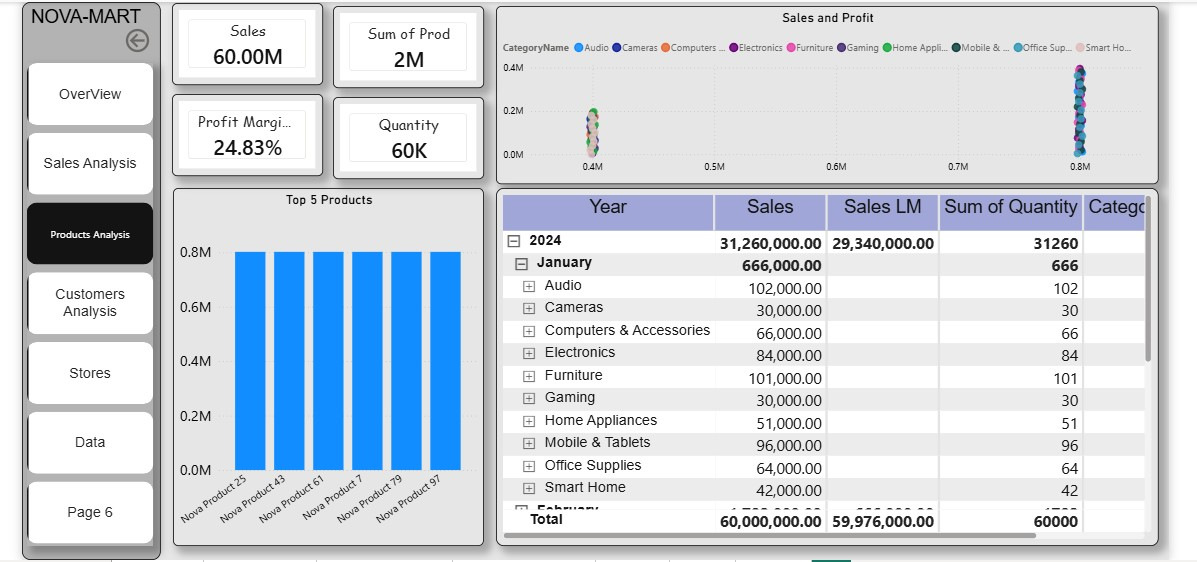

Layout of this report page (visuals, bound fields, positions):
{"tool":"powerbi","page":{"name":"Products Analysis","canvas":[1480,720],"ordinal":2},"visuals":[{"type":"shape","box":[0,0,179,720],"z":0},{"type":"pageNavigator","box":[6.7,79,163,623.3],"z":1000},{"type":"textbox","box":[6.7,0,169.7,70.6],"z":2000},{"type":"cardVisual","fields":{"Data":["_Measures.Sales"]},"box":[193.2,1.7,194.9,105.8],"z":3000},{"type":"cardVisual","fields":{"Data":["_Measures.Profit Margin %"]},"box":[193.2,119.3,194.9,105.8],"z":4000},{"type":"cardVisual","fields":{"Data":["_Measures.Sum of Prod"]},"box":[401.4,5,194.9,105.8],"z":5000},{"type":"cardVisual","fields":{"Data":["_Measures.Quantity"]},"box":[401.4,122.6,194.9,105.8],"z":6000},{"type":"columnChart","title":"Top 5 Products","fields":{"Category":["Dim Product.ProductName"],"Y":["_Measures.Sales"]},"box":[194.9,240.2,401.5,462],"z":7000},{"type":"scatterChart","title":"Sales and Profit ","fields":{"X":["_Measures.Sales"],"Y":["_Measures.Profit"],"Series":["Dim Product.CategoryName"],"Category":["Dim Product.ProductKey"]},"box":[611.5,5,855.1,230.1],"z":8000},{"type":"pivotTable","title":"Sales by Category","fields":{"Rows":["Dim Date.Year","Dim Date.MonthName","Dim Product.CategoryName","Dim Product.ProductName"],"Values":["_Measures.Sales","_Measures.Sales LM","Sum(Fact Sales.Quantity)","_Measures.Categories Rank"]},"box":[611.5,240.2,855.1,462],"z":9000},{"type":"actionButton","box":[129.4,30.2,100,40],"z":9001}]}

Visuals, with their boxes in screenshot pixels (x1, y1, x2, y2):
shape: {"x1": 19, "y1": 0, "x2": 156, "y2": 553}
pageNavigator: {"x1": 24, "y1": 61, "x2": 149, "y2": 540}
textbox: {"x1": 24, "y1": 0, "x2": 154, "y2": 54}
cardVisual - _Measures.Sales: {"x1": 167, "y1": 1, "x2": 317, "y2": 83}
cardVisual - _Measures.Profit Margin %: {"x1": 167, "y1": 92, "x2": 317, "y2": 173}
cardVisual - _Measures.Sum of Prod: {"x1": 327, "y1": 4, "x2": 477, "y2": 85}
cardVisual - _Measures.Quantity: {"x1": 327, "y1": 94, "x2": 477, "y2": 176}
"Top 5 Products" columnChart: {"x1": 168, "y1": 185, "x2": 477, "y2": 540}
"Sales and Profit " scatterChart: {"x1": 489, "y1": 4, "x2": 1146, "y2": 181}
"Sales by Category" pivotTable: {"x1": 489, "y1": 185, "x2": 1146, "y2": 540}
actionButton: {"x1": 118, "y1": 23, "x2": 195, "y2": 54}
